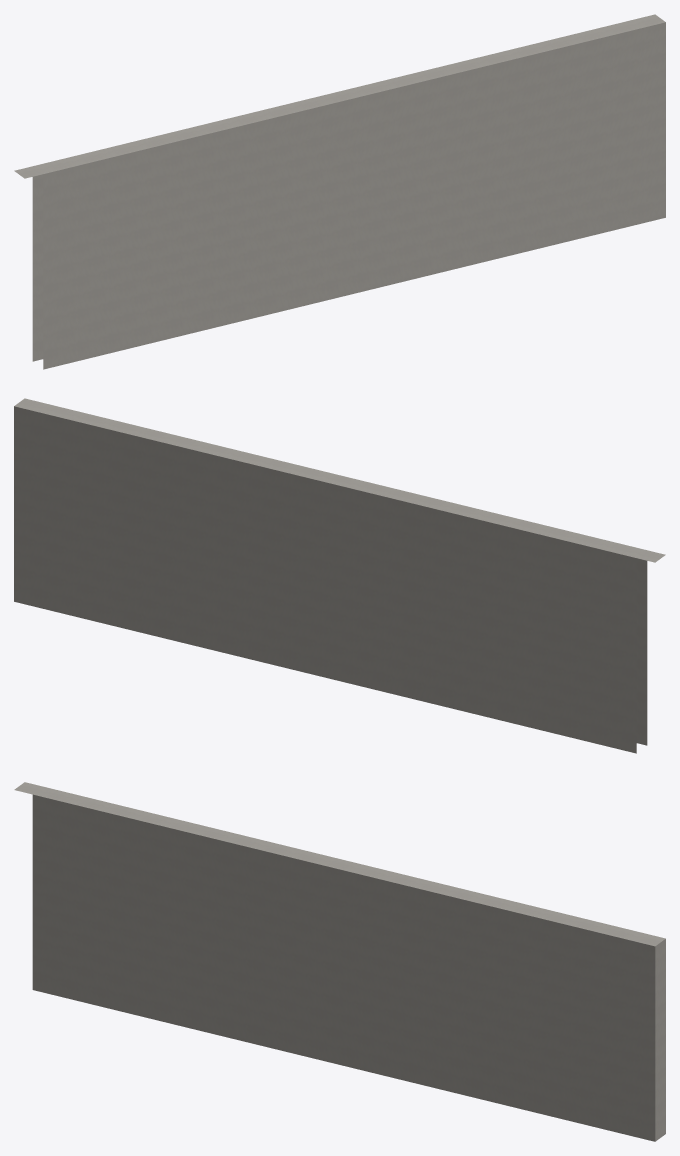
File: fstWallG.obj
The picture shows the model from 3 angles, top to bottom: view 1: azimuth 30°, elevation 25°; view 2: azimuth 150°, elevation 25°; view 3: azimuth 330°, elevation 25°; orthographic projection.
Parts seen in each view (by area): view 1: Box011; view 2: Box011; view 3: Box011.
Part boxes in pixels (left/top/right/bottom): Box011: left=14, top=14, right=665, bottom=369; Box011: left=14, top=398, right=665, bottom=753; Box011: left=14, top=782, right=665, bottom=1141.
Bounding box in the file's own units: 406 × 118 × 11.81.
